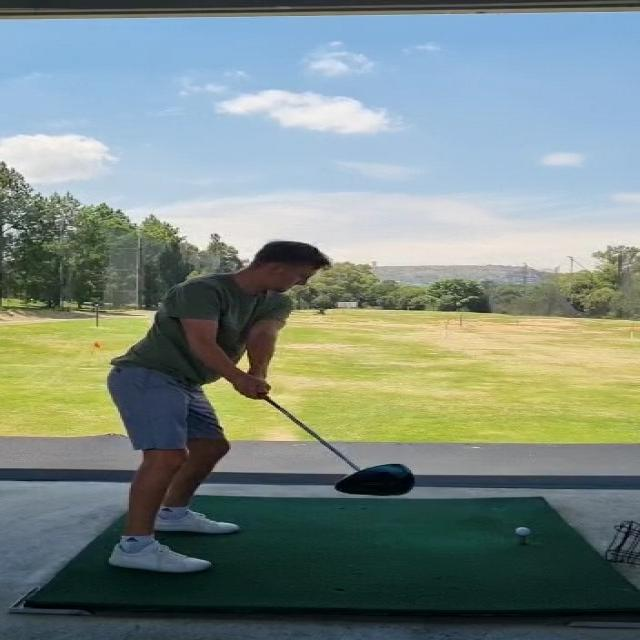club head: (332, 461, 421, 497)
